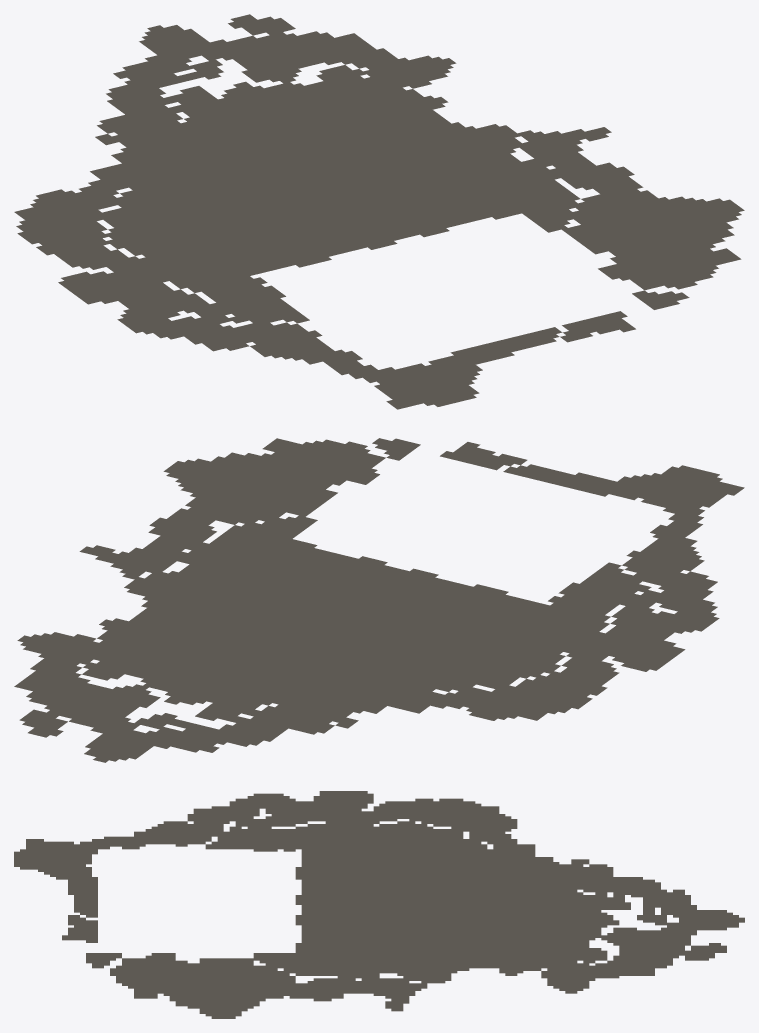
The model's file is Isl-orc6-NoBuildArea.fbx.
3 renders of one model, top to bottom at view 1: azimuth 30°, elevation 25°; view 2: azimuth 150°, elevation 25°; view 3: azimuth 270°, elevation 25°, orthographic. The views are drawn at different scales.
Visible parts, largest first — view 1: Isl-orc6-NoBuildArea; view 2: Isl-orc6-NoBuildArea; view 3: Isl-orc6-NoBuildArea.
Boxes of the visible parts, x1=… form: Isl-orc6-NoBuildArea: x1=14, y1=14, x2=744, y2=409; Isl-orc6-NoBuildArea: x1=14, y1=438, x2=744, y2=762; Isl-orc6-NoBuildArea: x1=14, y1=791, x2=744, y2=1018.
Size of the model in its own units: 90 by 0 by 122.
